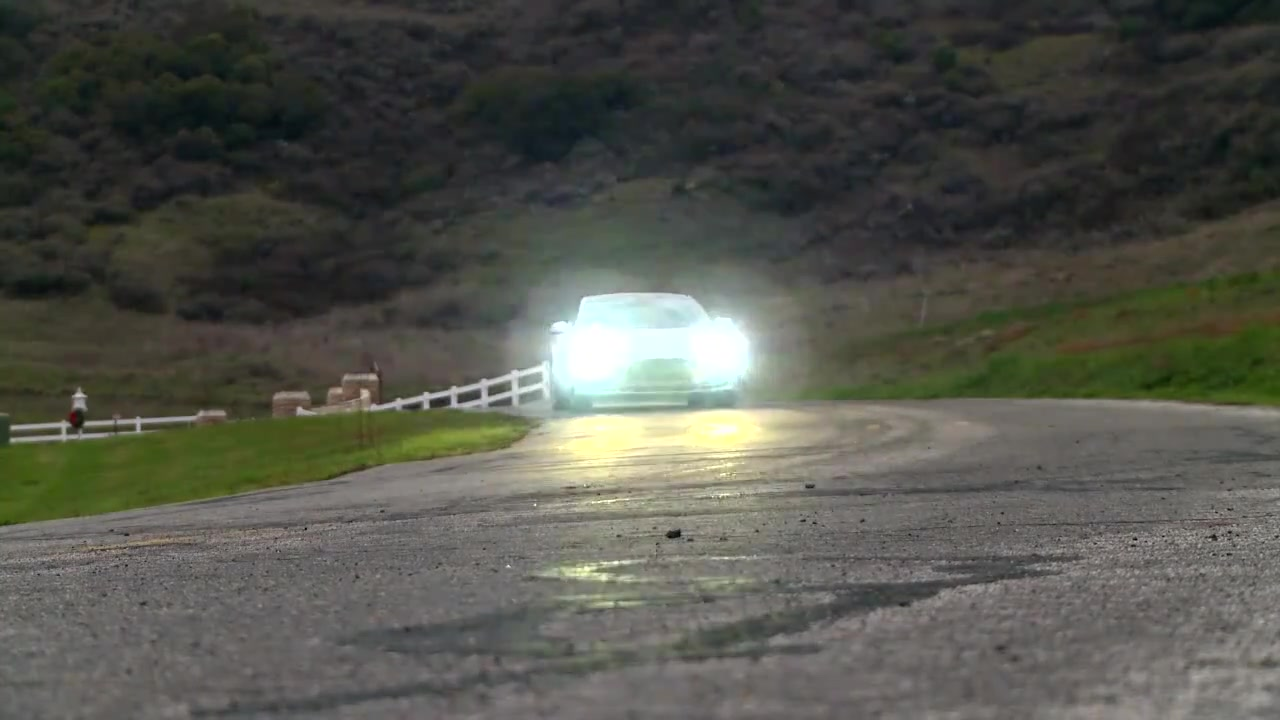car: (540, 287, 750, 406)
